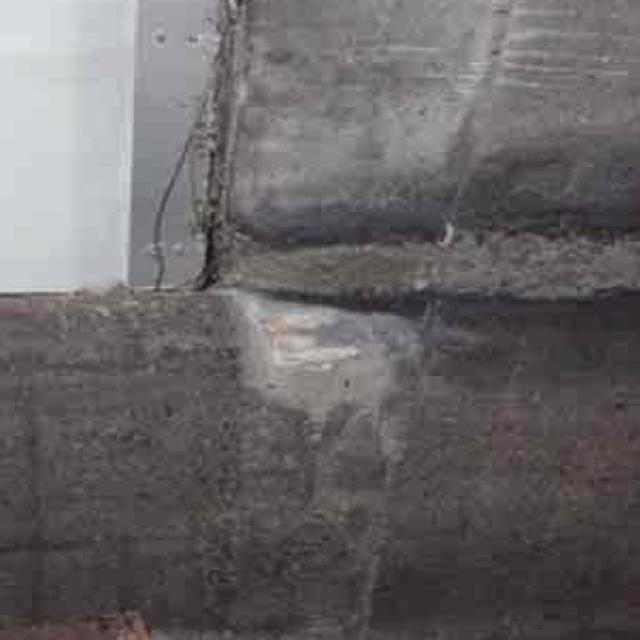freelime: (218, 276, 382, 456)
